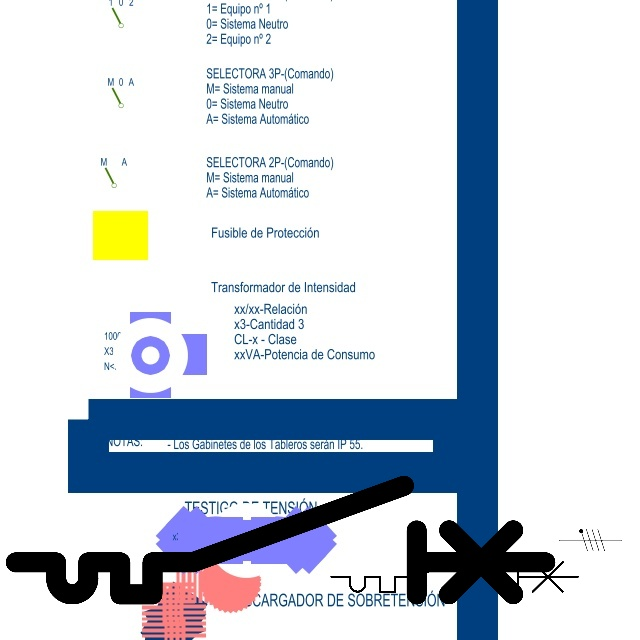interruptor_termomagnetico: (2, 472, 559, 608), (325, 535, 584, 598)
